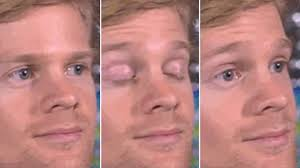white_male: (204, 12, 299, 168)
